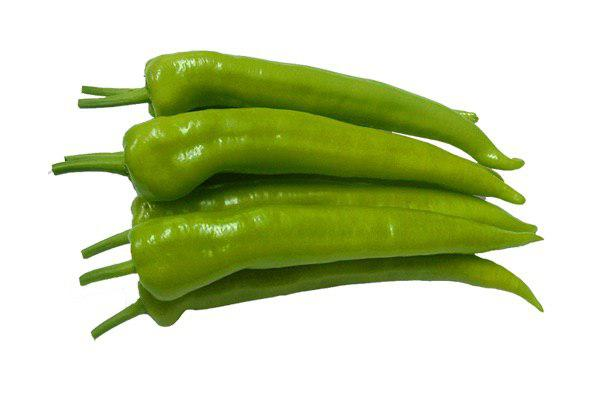lada hijau: (138, 41, 536, 175), (124, 106, 524, 214), (128, 200, 534, 301)
